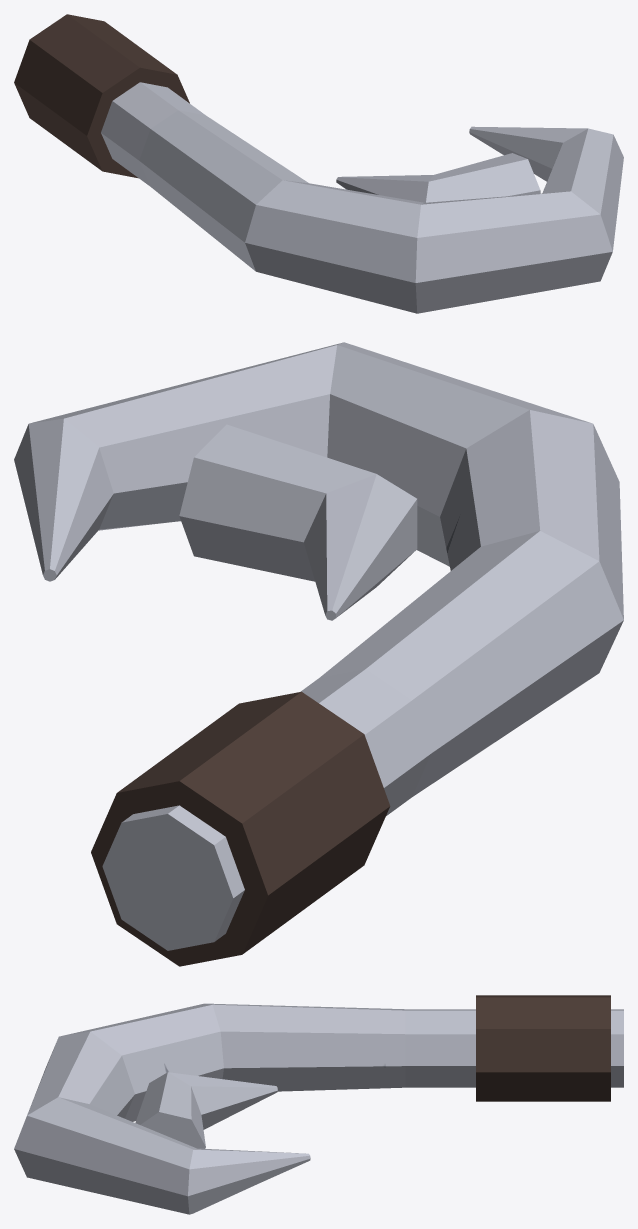
The model's file is piercing_tooth.glb.
3 views of the same model, one above another, from view 1: azimuth 30°, elevation 25°; view 2: azimuth 150°, elevation 25°; view 3: azimuth 270°, elevation 25° (orthographic). The views are drawn at different scales.
Parts seen in each view (by area): view 1: piercing_tooth_Mesh; view 2: piercing_tooth_Mesh; view 3: piercing_tooth_Mesh.
Part boxes in pixels (left/top/right/bottom): piercing_tooth_Mesh: left=14, top=14, right=623, bottom=313; piercing_tooth_Mesh: left=14, top=342, right=623, bottom=966; piercing_tooth_Mesh: left=14, top=995, right=623, bottom=1214.
Size of the model in its own units: 0.6324 by 0.176 by 0.9488.
Materials: 3 (1 with a texture image).
